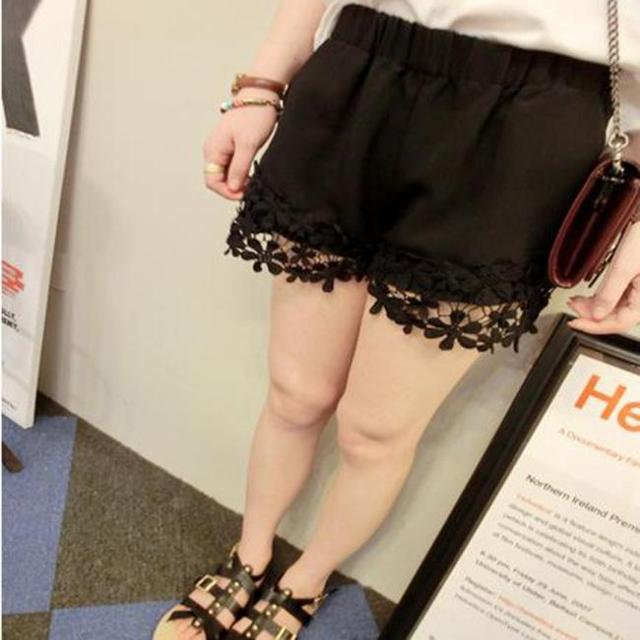shorts: (228, 5, 614, 345)
